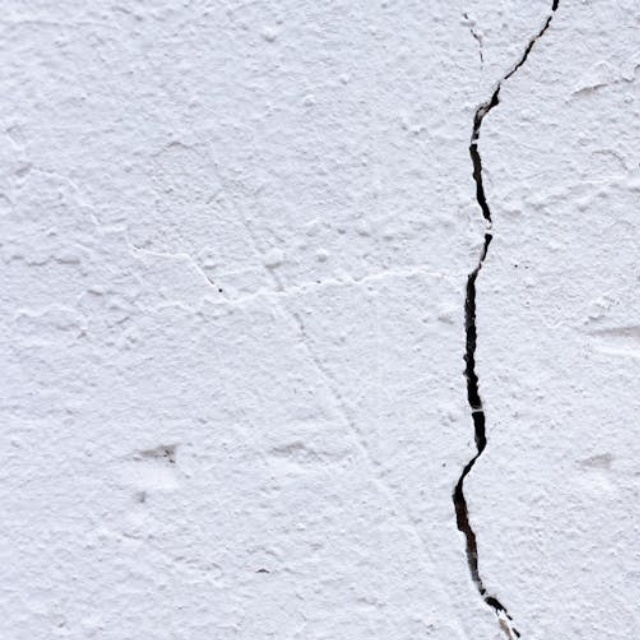细微裂纹: (359, 48, 504, 640), (463, 0, 622, 492), (417, 71, 546, 640), (398, 124, 530, 640), (370, 0, 495, 481), (428, 0, 527, 508), (406, 104, 500, 592), (435, 251, 538, 640), (414, 367, 552, 640), (429, 0, 534, 307)
